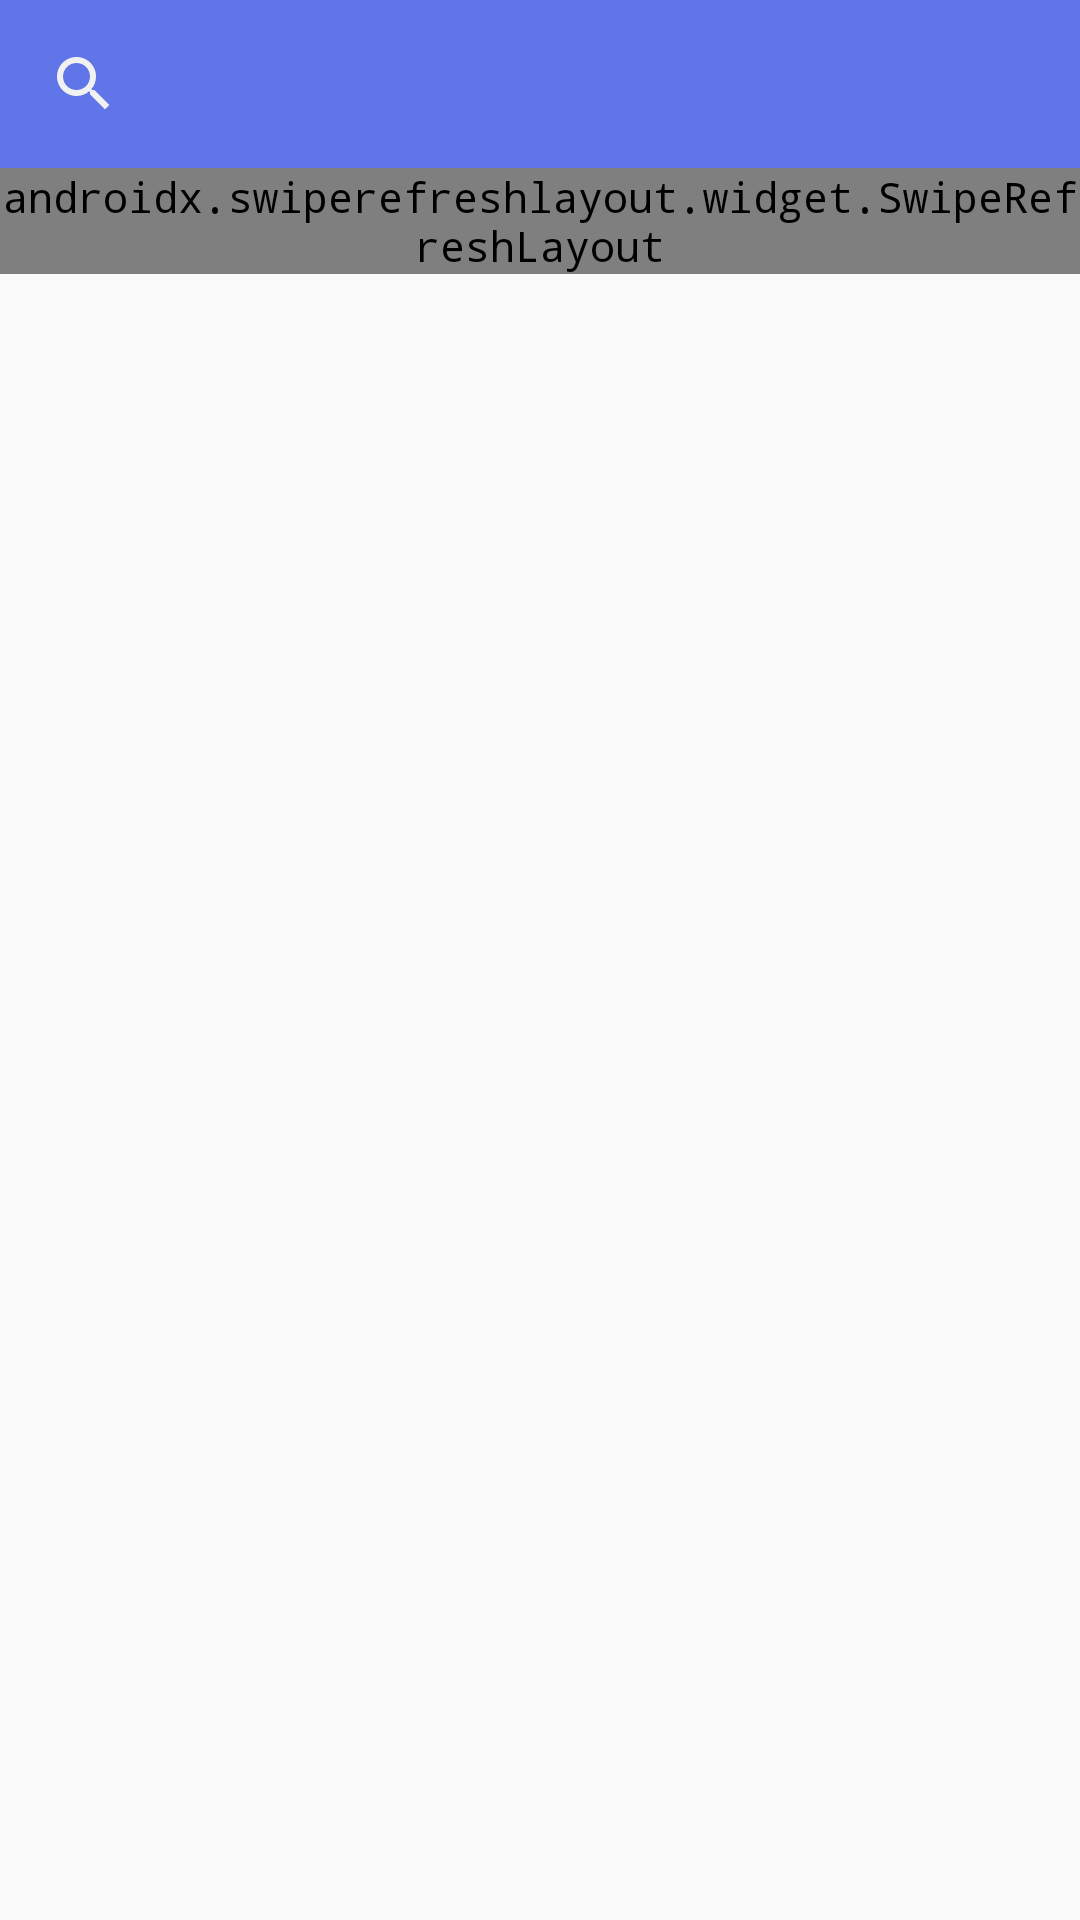

Screen size 1080*1920. Icon name, then its center in pixels as (x=x, y=y):
search: (x=83, y=83)
